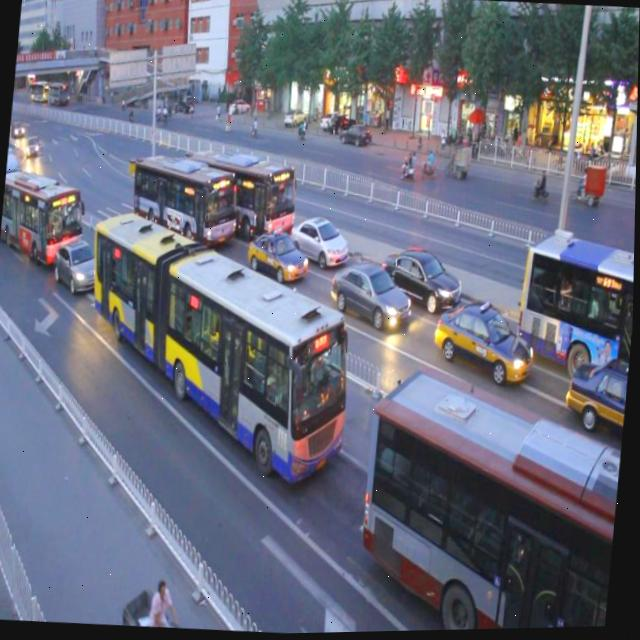car: (430, 298, 538, 397), (325, 256, 412, 338), (380, 244, 466, 318), (563, 355, 631, 429), (243, 223, 310, 289), (286, 210, 350, 275), (53, 237, 107, 297)
van: (72, 201, 365, 493), (355, 365, 628, 634), (514, 229, 636, 375), (125, 144, 241, 259), (184, 141, 301, 247), (0, 161, 87, 259)
